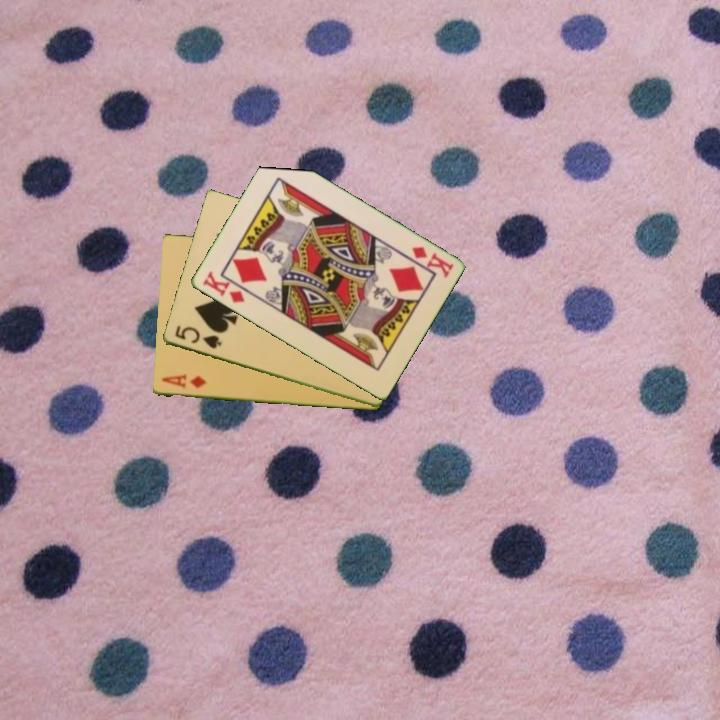5s: (171, 322, 224, 352)
Ad: (158, 371, 210, 392)
Kd: (198, 267, 247, 306), (408, 243, 456, 281)
